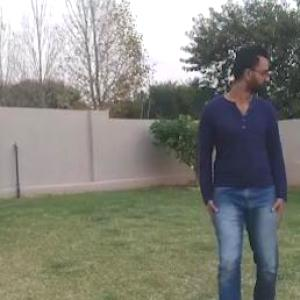follow: (187, 17, 299, 299)
